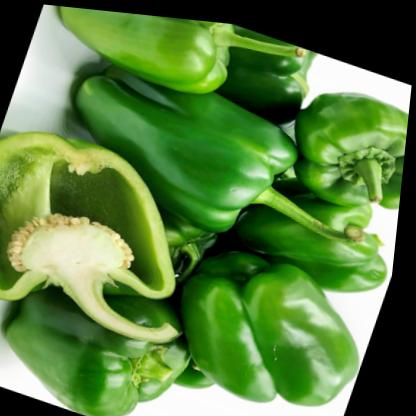bell_pepper: (32, 45, 404, 289), (0, 109, 236, 367), (152, 211, 398, 416), (32, 3, 309, 121)
